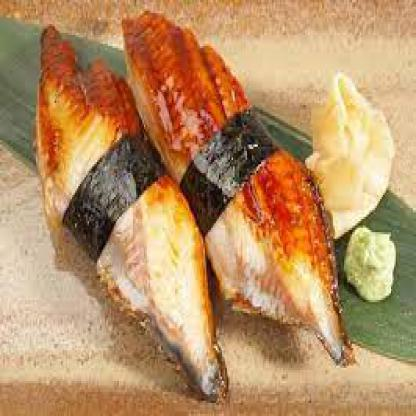anago: (32, 20, 252, 413)
